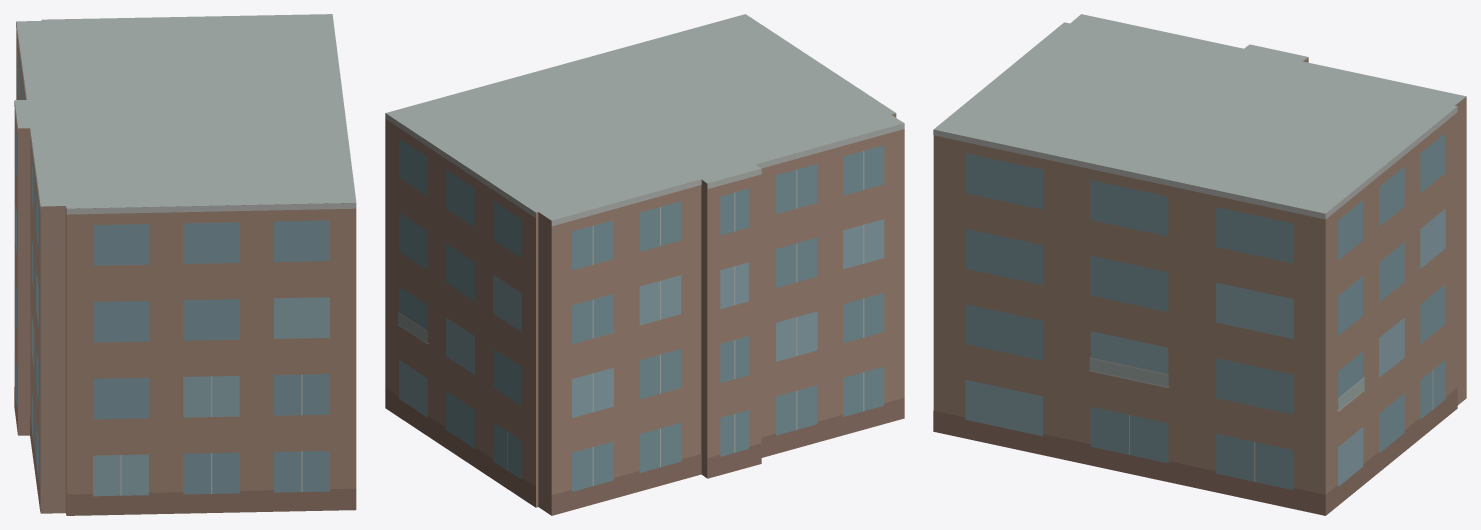
File: survey-upis-32939111.glb
The picture shows the model from 3 angles, left to right: view 1: azimuth 30°, elevation 25°; view 2: azimuth 150°, elevation 25°; view 3: azimuth 270°, elevation 25°; orthographic projection. The views are drawn at different scales.
Visible parts, largest first — view 1: survey-upis-32939111.tmp; view 2: survey-upis-32939111.tmp; view 3: survey-upis-32939111.tmp.
Part boxes in pixels (x1,y1,x2,y2): survey-upis-32939111.tmp: (14,14,356,515); survey-upis-32939111.tmp: (385,14,904,515); survey-upis-32939111.tmp: (933,14,1466,515).
Bounding box in the file's own units: 18.02 × 12.7 × 20.32.
